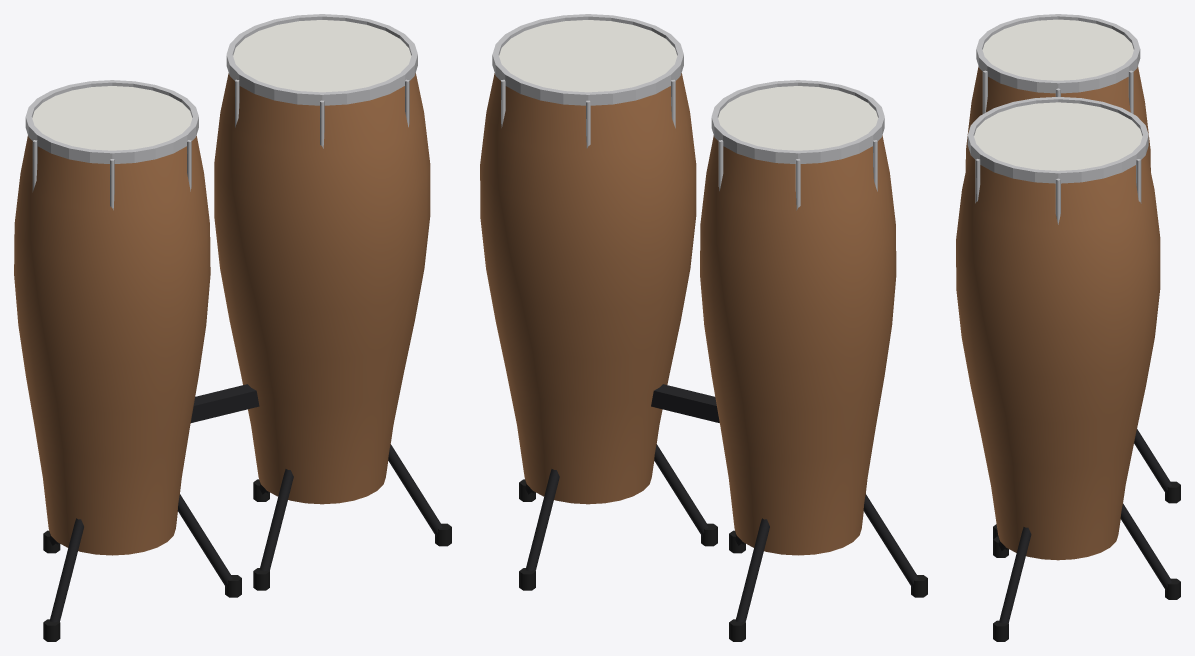
File: congas.glb
The picture shows the model from 3 angles, left to right: view 1: azimuth 30°, elevation 25°; view 2: azimuth 150°, elevation 25°; view 3: azimuth 270°, elevation 25°; orthographic projection. The views are drawn at different scales.
Visible parts, largest first — view 1: shell-wood, head, metal, frame, rubber; view 2: shell-wood, head, metal, frame, rubber; view 3: shell-wood, head, metal, frame, rubber.
Part boxes in pixels (left/top/right/bottom): shell-wood: left=14, top=73, right=430, bottom=555; head: left=32, top=20, right=411, bottom=150; metal: left=25, top=14, right=417, bottom=210; frame: left=49, top=384, right=442, bottom=622; rubber: left=43, top=479, right=451, bottom=641; shell-wood: left=480, top=73, right=896, bottom=555; head: left=499, top=20, right=878, bottom=150; metal: left=492, top=14, right=884, bottom=210; frame: left=525, top=384, right=918, bottom=622; rubber: left=519, top=479, right=927, bottom=641; shell-wood: left=956, top=66, right=1160, bottom=560; head: left=974, top=19, right=1142, bottom=170; metal: left=967, top=14, right=1148, bottom=224; frame: left=999, top=429, right=1171, bottom=623; rubber: left=993, top=481, right=1180, bottom=641.
Bounding box in the file's own units: 0.7707 × 0.89 × 0.3923.
